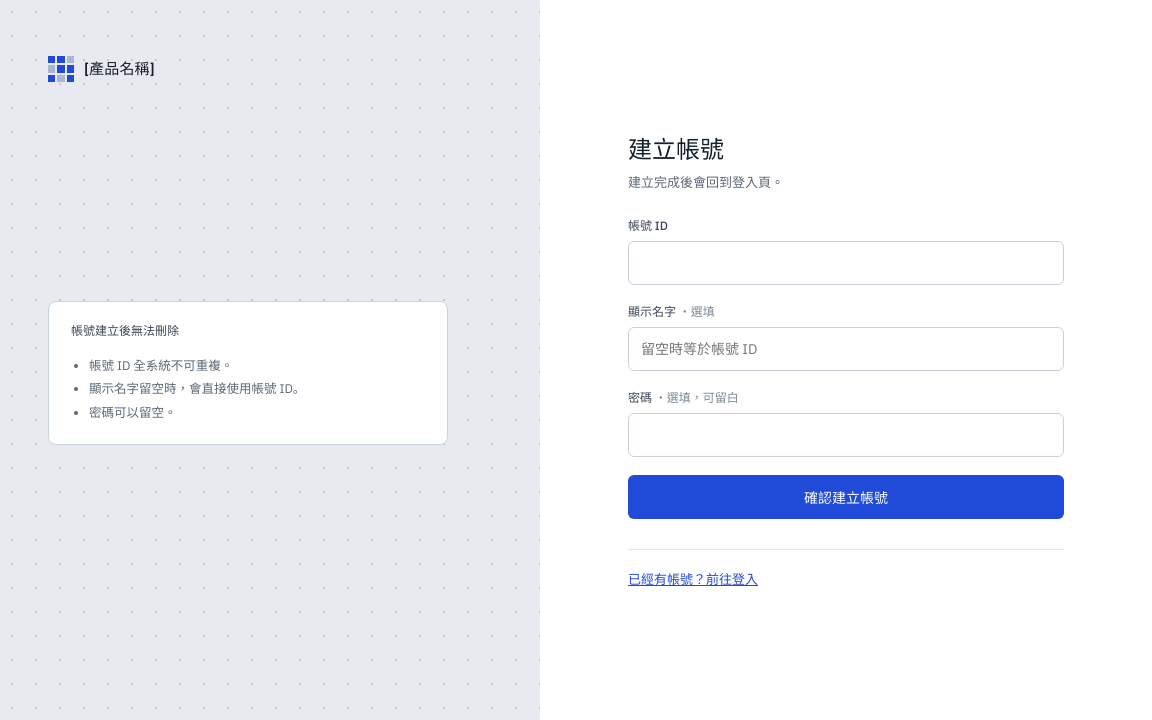
Test case: s-signup › 密碼留白時確認建立帳號成功，觸發 uc-create-user，並導向 s-login
Expected: the heading "建立帳號" is shown, [628,133,724,165]
Type "user2" into the field labelled "帳號 ID".
click(846, 262); type("user2")  # box [628,240,1064,284]
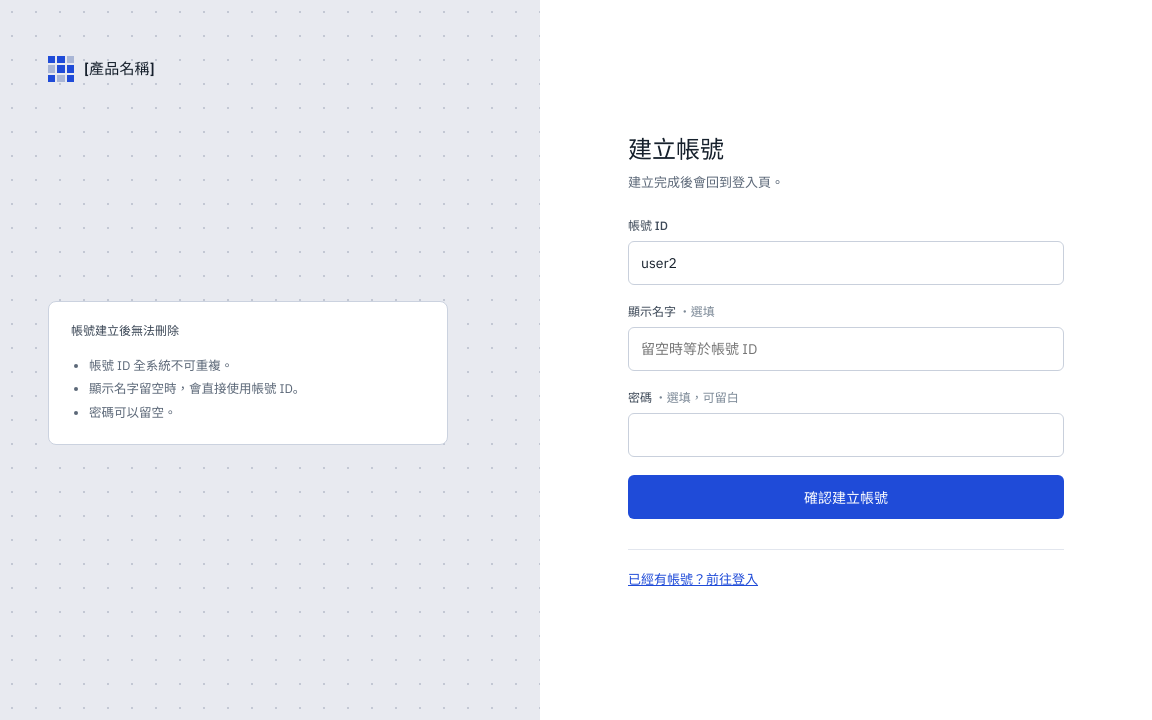
Click the button "確認建立帳號".
click(846, 496)  # box [628,474,1064,518]
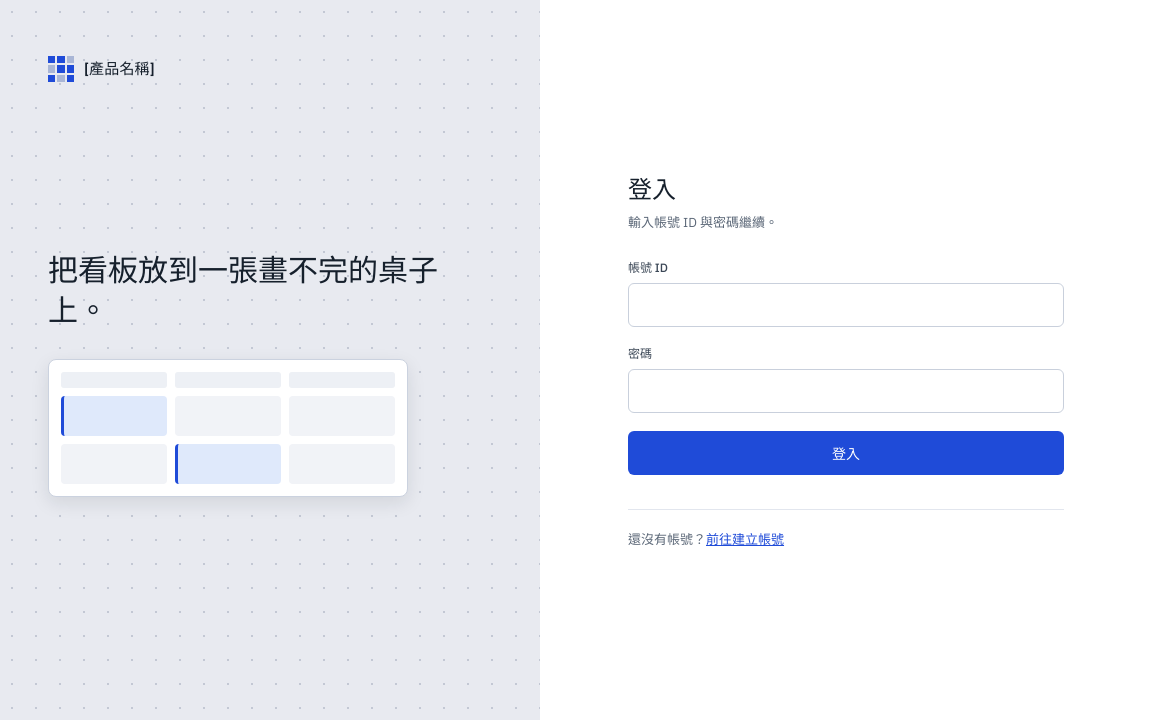
Result: the heading "登入" is shown at [628,173,676,205]
